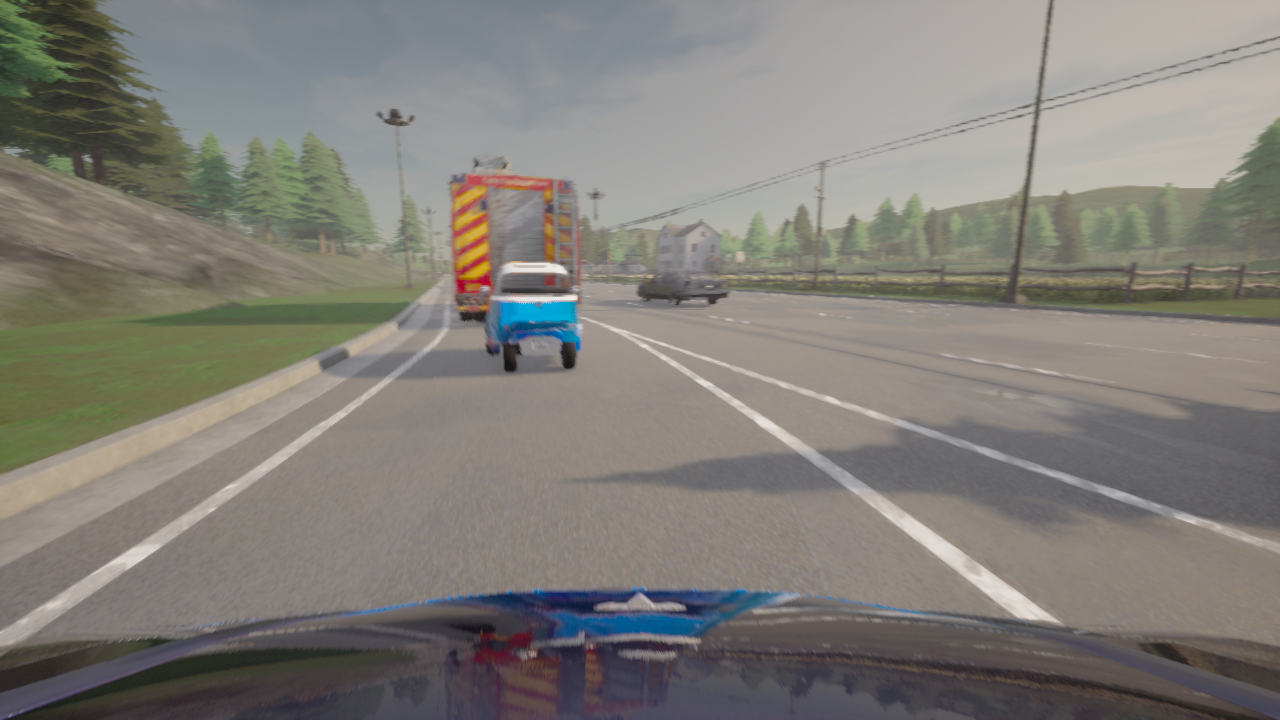cyclist: (0, 588, 1279, 719), (446, 152, 580, 321), (480, 261, 581, 372), (637, 269, 729, 305)
